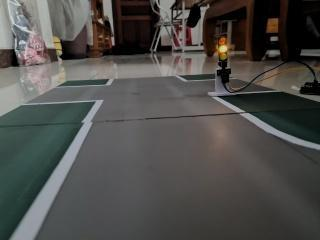yellow: (208, 27, 238, 69)
